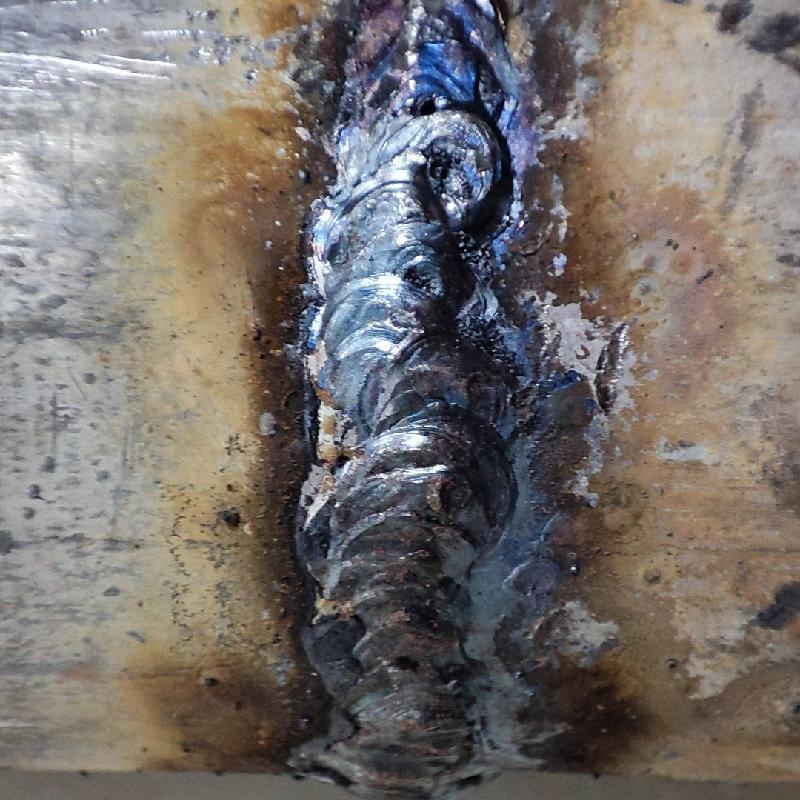Surface_pores: (405, 81, 451, 125)
